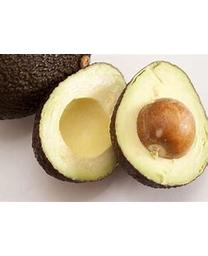avocado: (30, 60, 134, 185), (110, 58, 207, 187)
